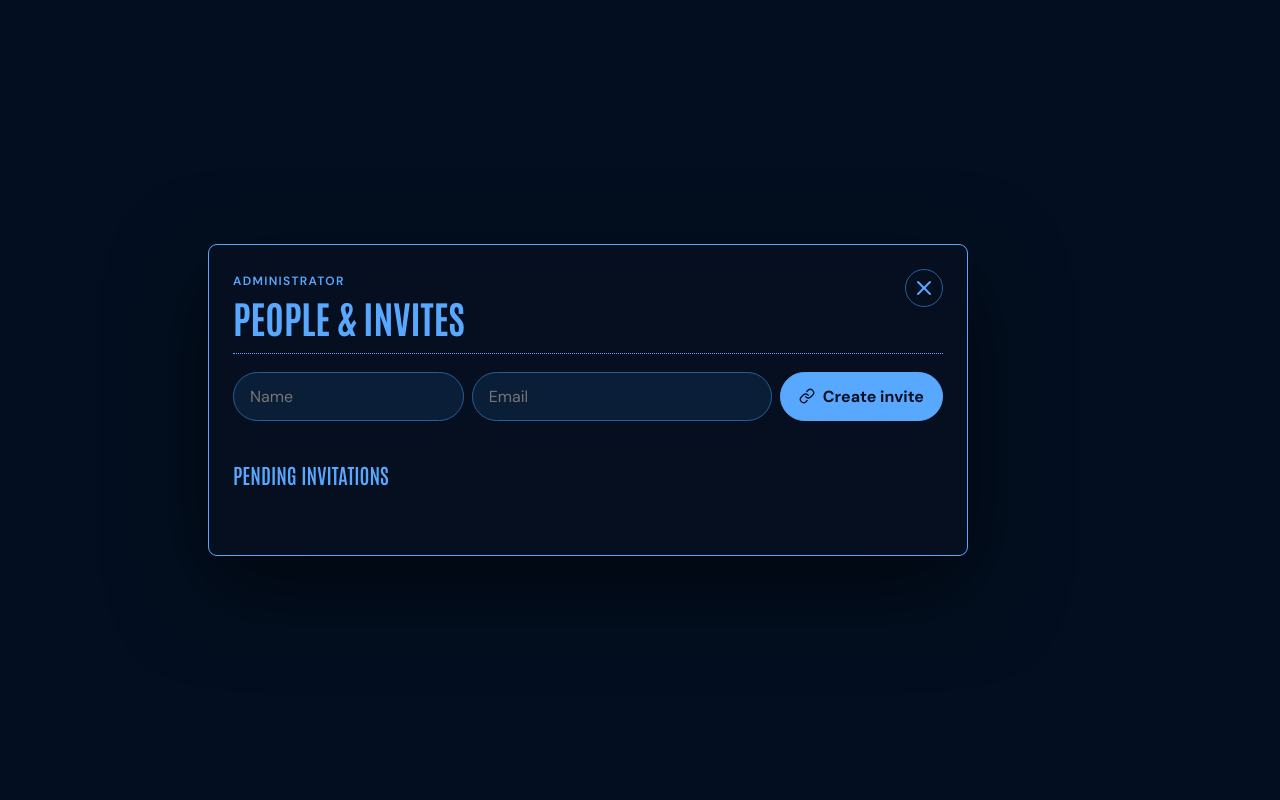
Test: admin panel closing › confirms when an invitation link is copied
The width and height of the screenshot is (1280, 800).
Type "Sam" into the field labelled "Name" at (348, 396), box [233,372,464,420]
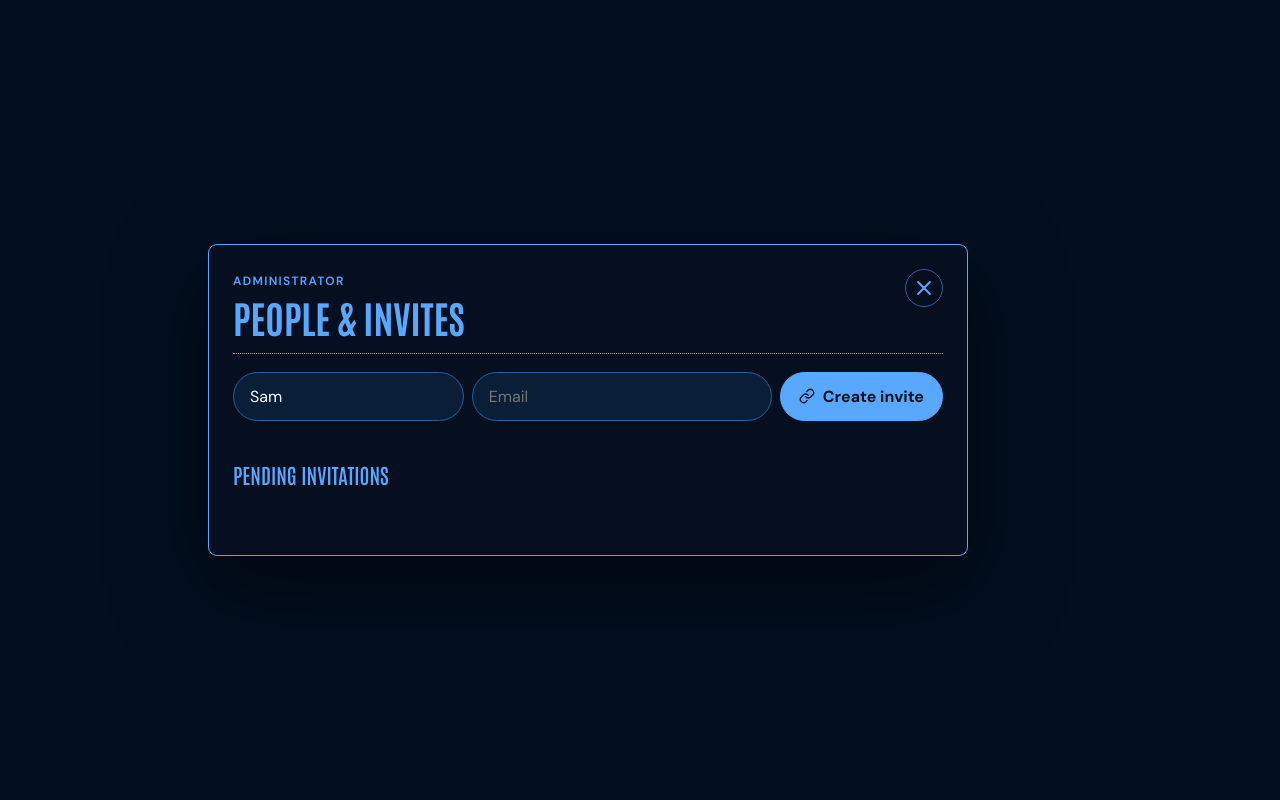
Type "sam@example.test" into the field labelled "Email" at (622, 396), box [472,372,772,420]
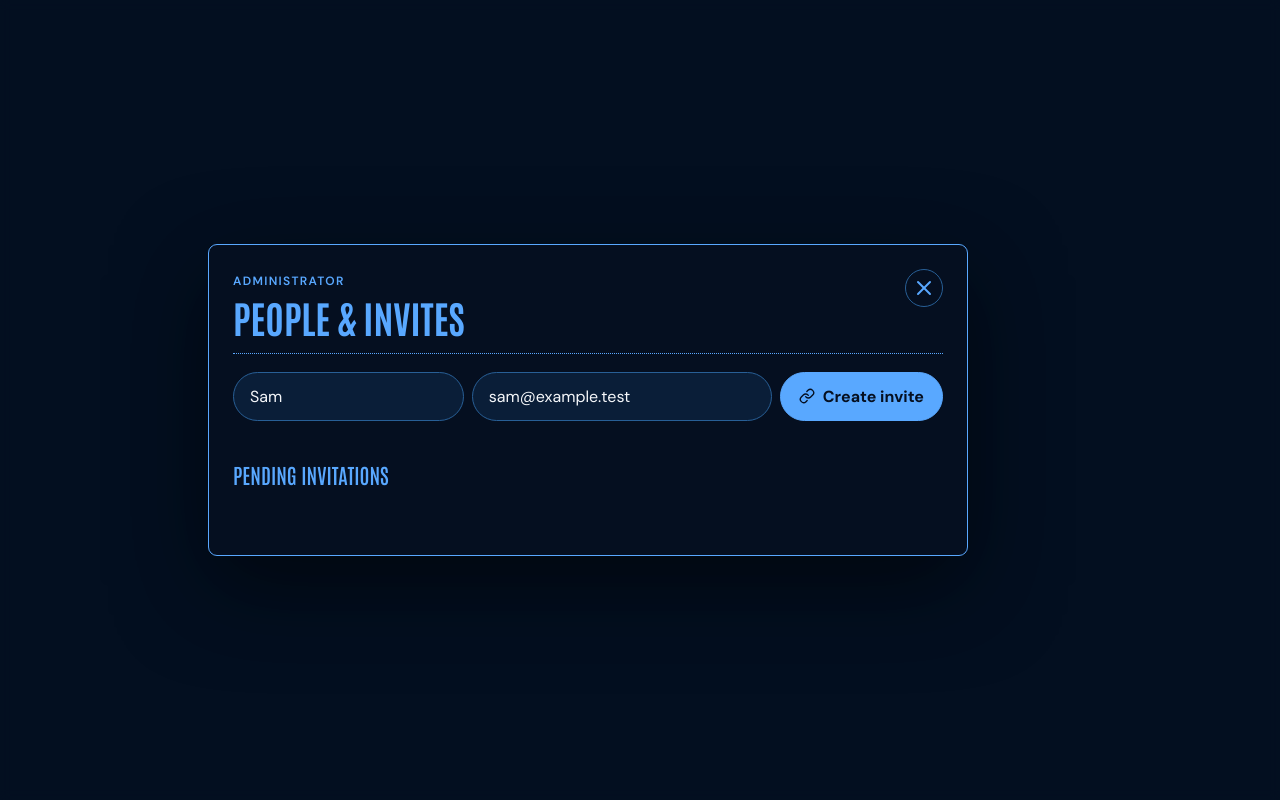
Click the button "Create invite" at (861, 396), box [780,372,943,420]
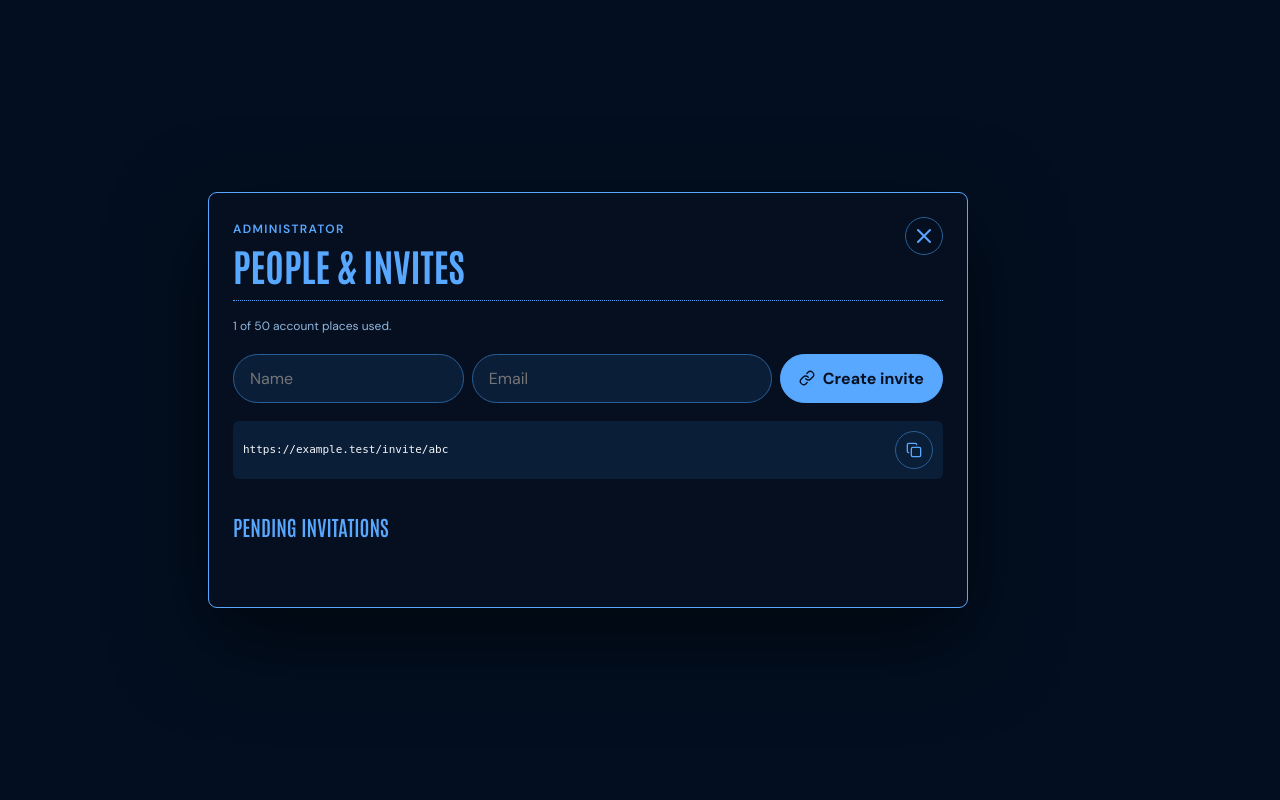
Now the button named "copy invitation link" is shown
Click the button named "copy invitation link" at (914, 450), box [895,431,933,469]
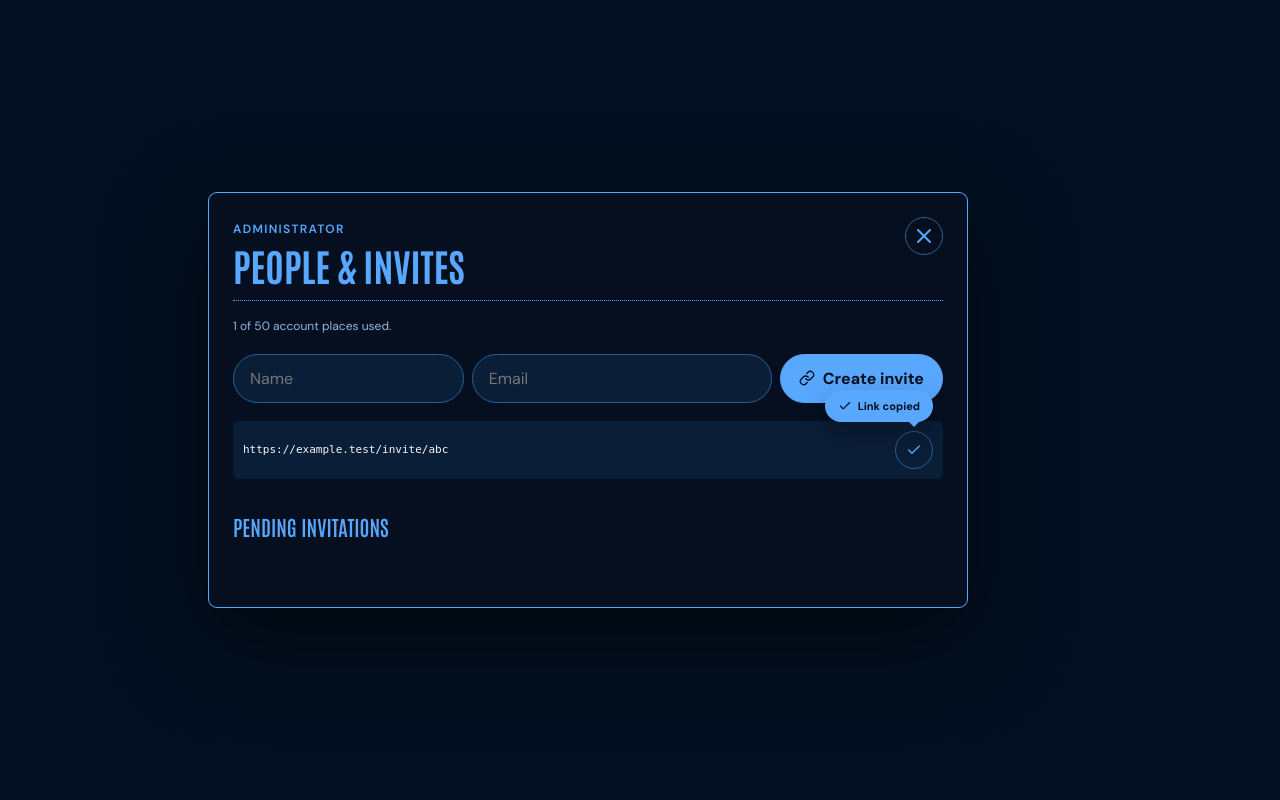
Now the message reads "Link copied", box [858,399,920,413]
